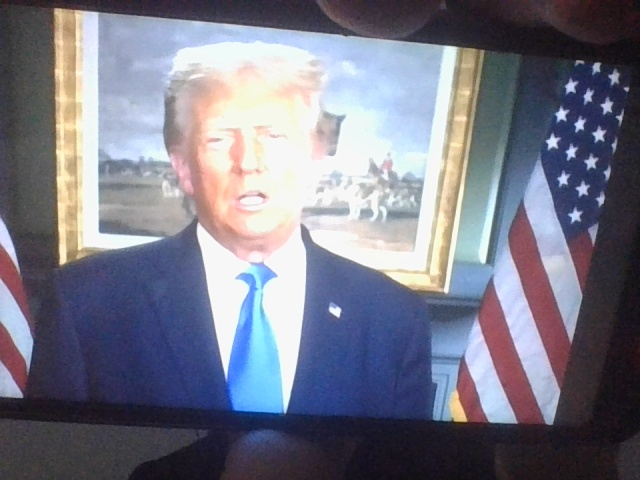fake: (173, 7, 344, 250)
